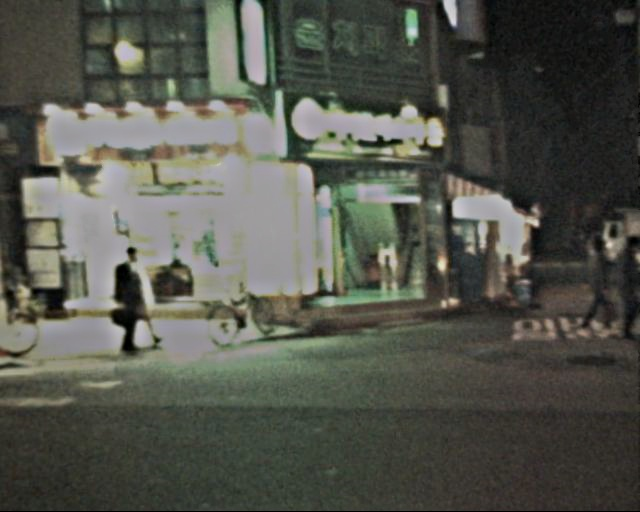person: (562, 234, 620, 343), (106, 242, 157, 355), (597, 234, 640, 343)
